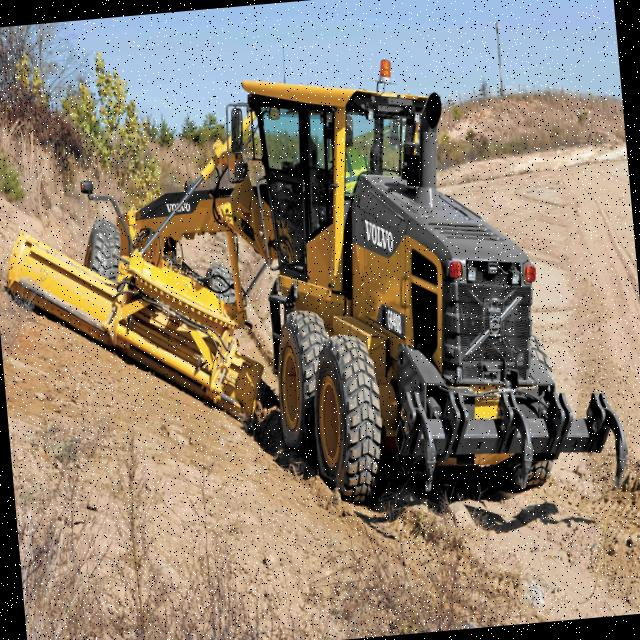Grader: (0, 33, 631, 553)
